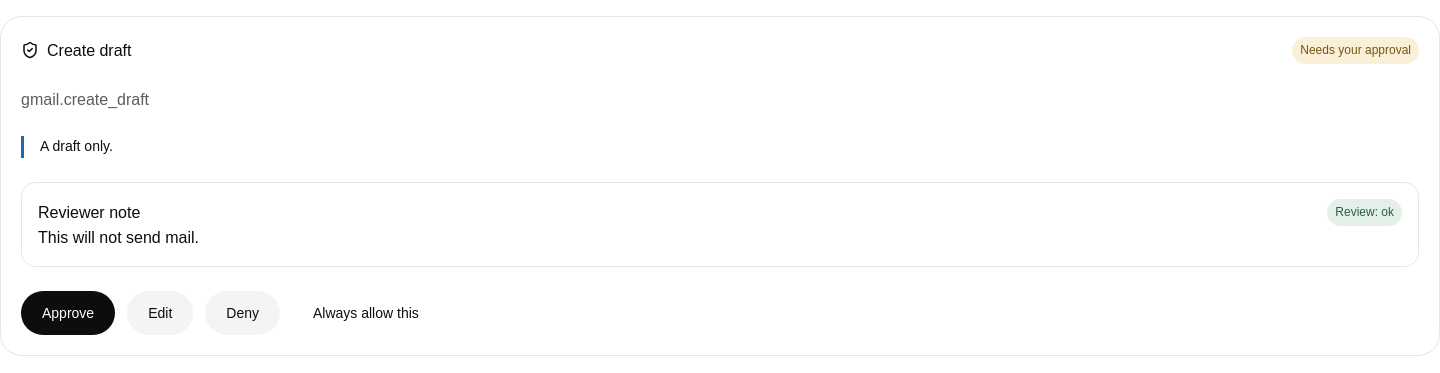
Test case: M3 component coverage › updates an approval card to a terminal state and removes decision controls
Click the button "Deny": (243, 314) [205,292,280,336]
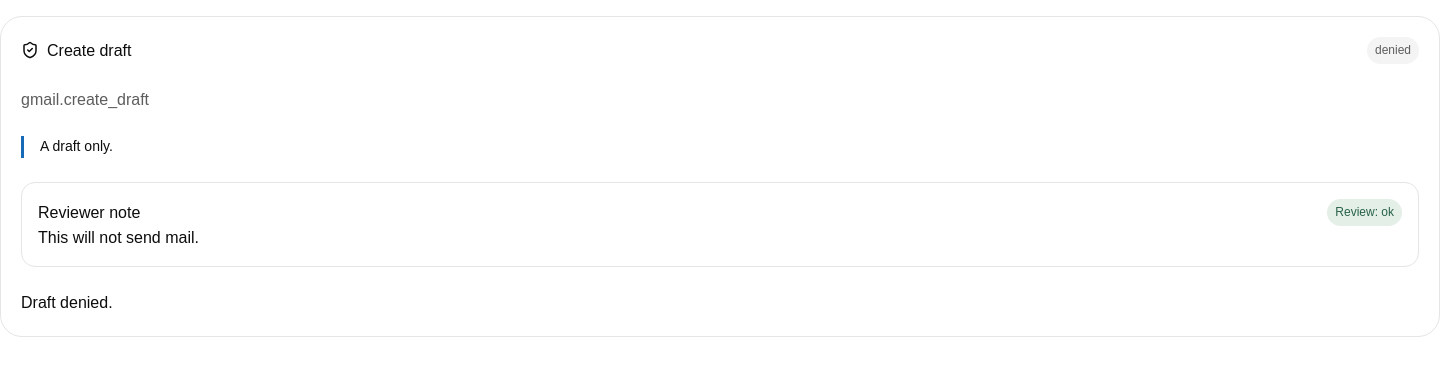
Check: the text "Draft denied." is shown, box [21,294,113,312]
Check: the text "denied" is shown, box [1367,37,1419,64]
Check: the button "Approve" is gone
